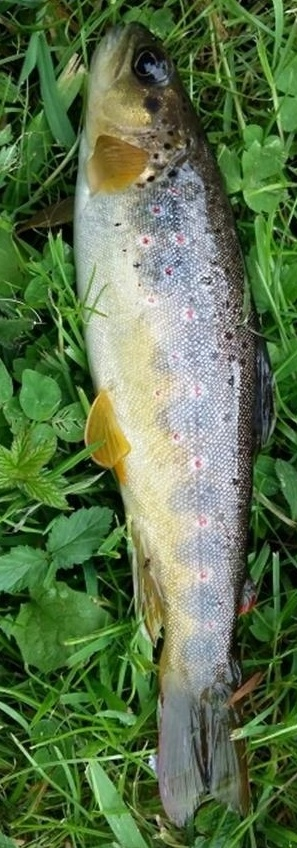Salmo trutta subsp. fario: (20, 20, 277, 828)
